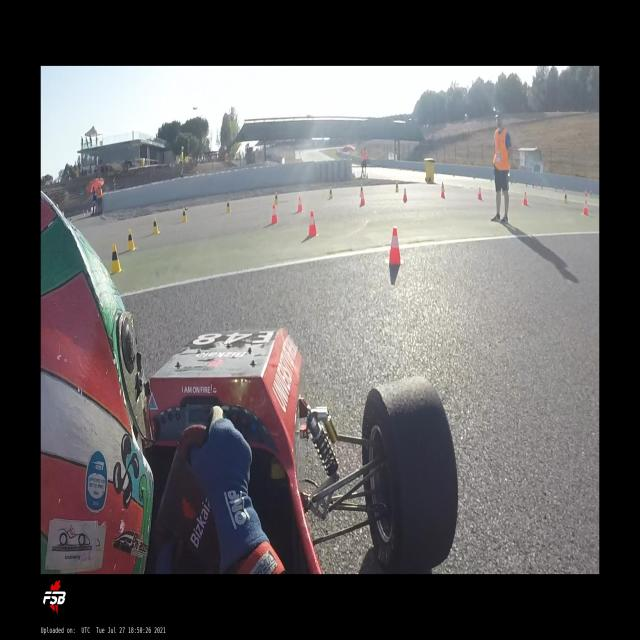orange_cone: (385, 226, 404, 265), (307, 210, 318, 238), (271, 204, 278, 224), (582, 200, 590, 216), (359, 190, 366, 206), (297, 196, 303, 212), (522, 192, 528, 206), (440, 185, 445, 198), (403, 188, 407, 201), (478, 187, 482, 200)
yellow_cone: (110, 243, 122, 276), (126, 229, 138, 252), (152, 216, 160, 235), (181, 208, 188, 222), (226, 200, 231, 213), (563, 192, 568, 204), (395, 181, 399, 193), (329, 188, 333, 200), (274, 192, 278, 204), (360, 184, 363, 197)
